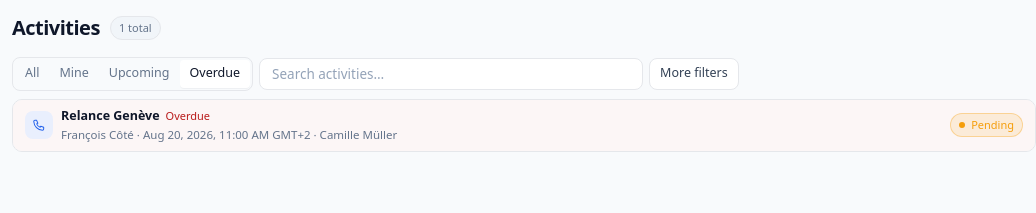
Scenario: ActivitiesPanel compact list › keeps type, status, and assignee filters behind disclosure
This screenshot has width=1036, height=213.
Expected: the field labelled "Search activities" is shown, [259, 58, 643, 90]
What coordinates should you click on to do the following:
click the button "More filters"
I would click on:
 (694, 74)
Its box is [649, 58, 739, 90].
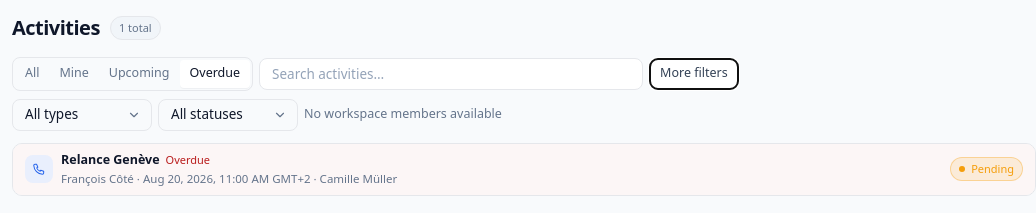
Result: the dropdown named "Filter by type" is shown at [12, 98, 152, 130]
Result: the dropdown named "Filter by status" is shown at [158, 98, 298, 130]
